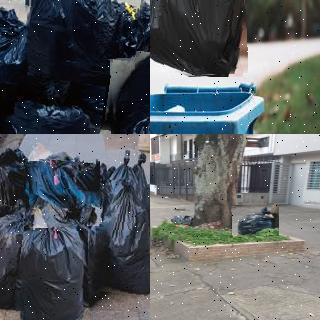Garbage: (18, 0, 146, 129), (18, 213, 89, 320), (150, 0, 245, 78), (94, 181, 150, 296), (0, 0, 48, 124), (0, 81, 112, 134), (28, 160, 101, 227), (0, 203, 34, 309), (0, 151, 32, 261), (111, 53, 150, 134), (37, 150, 96, 190), (232, 205, 279, 237)
